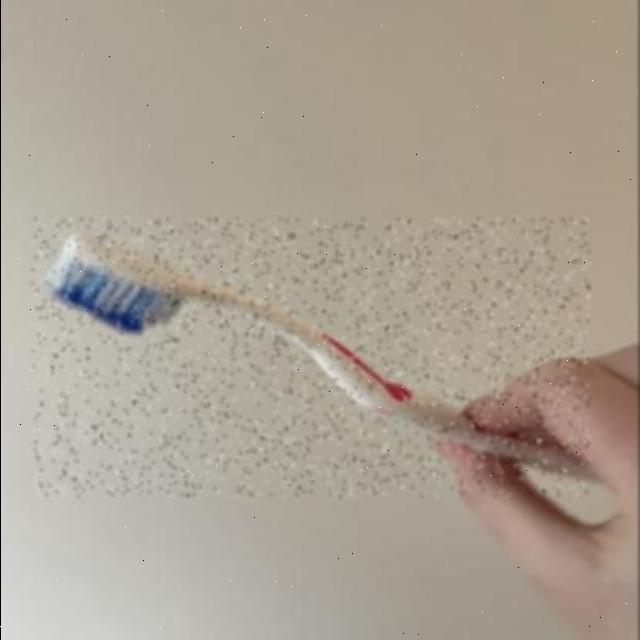toothbrush: (33, 219, 591, 497)
